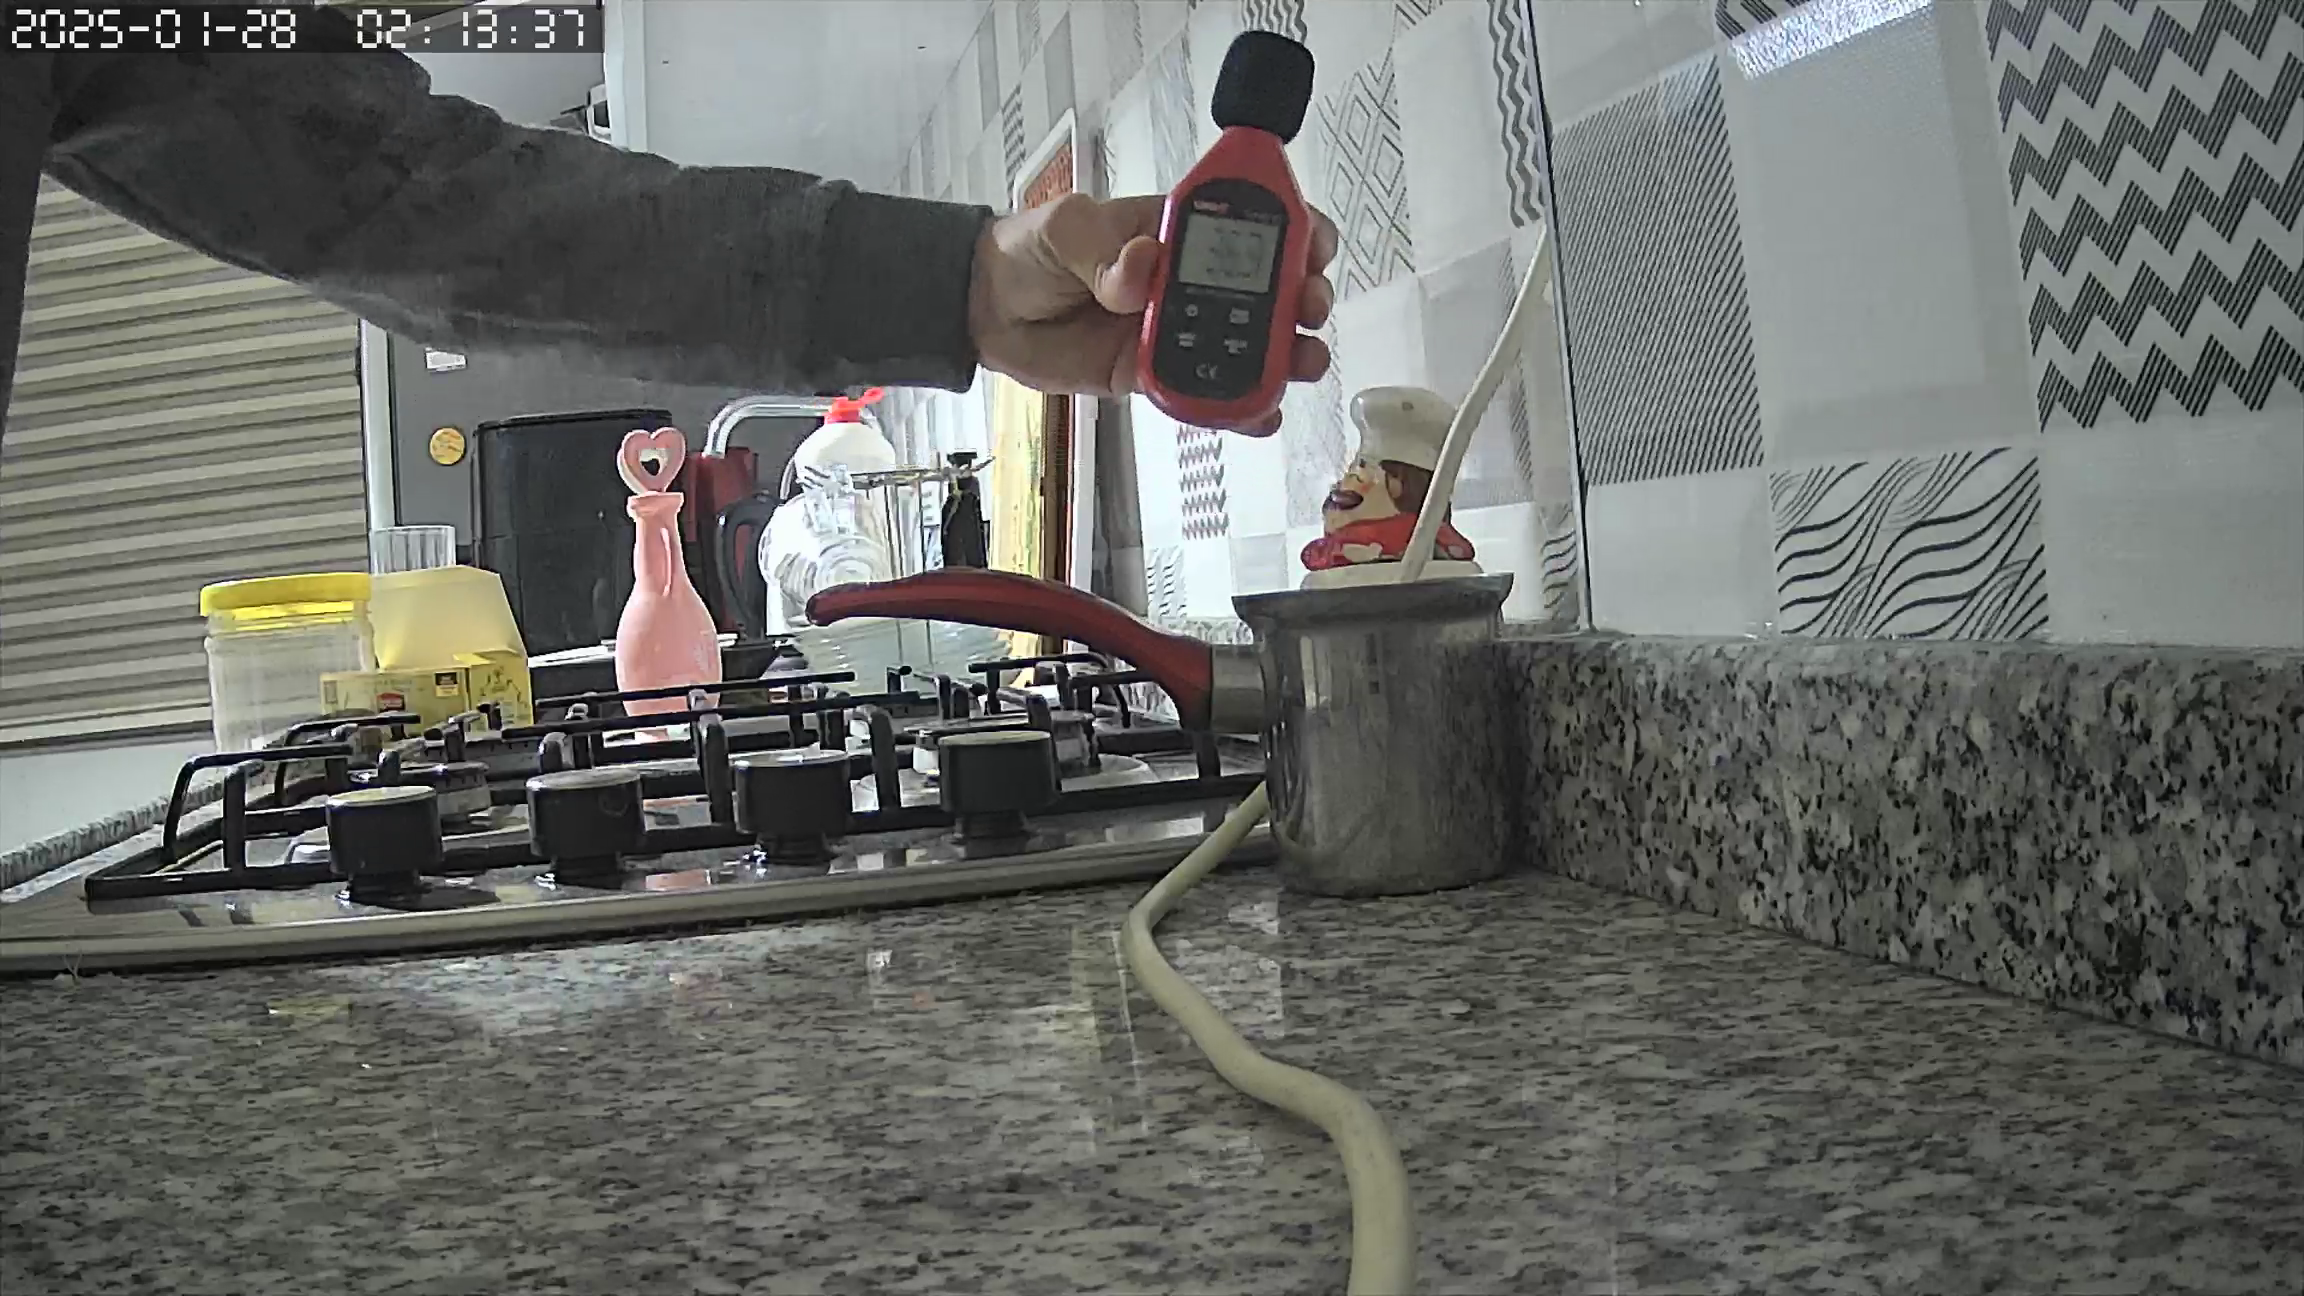screen: (1180, 212, 1280, 297)
